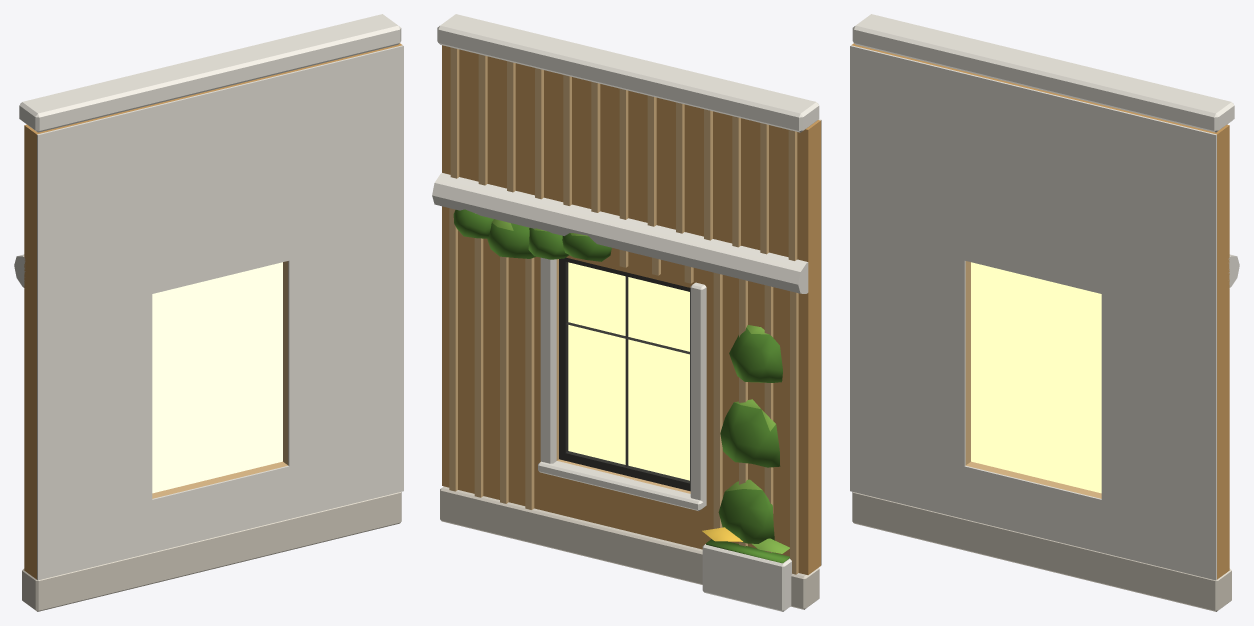
The model's file is hall_wall.glb.
3 renders of one model, left to right at view 1: azimuth 30°, elevation 25°; view 2: azimuth 150°, elevation 25°; view 3: azimuth 330°, elevation 25°, orthographic.
Parts seen in each view (by area): view 1: wall; view 2: wall; view 3: wall.
Boxes of the visible parts, x1,y1,x2,y2 form: wall: (14,14,403,611); wall: (432,14,821,611); wall: (850,14,1239,611).
Size of the model in its own units: 4 by 5.2 by 0.4871.
